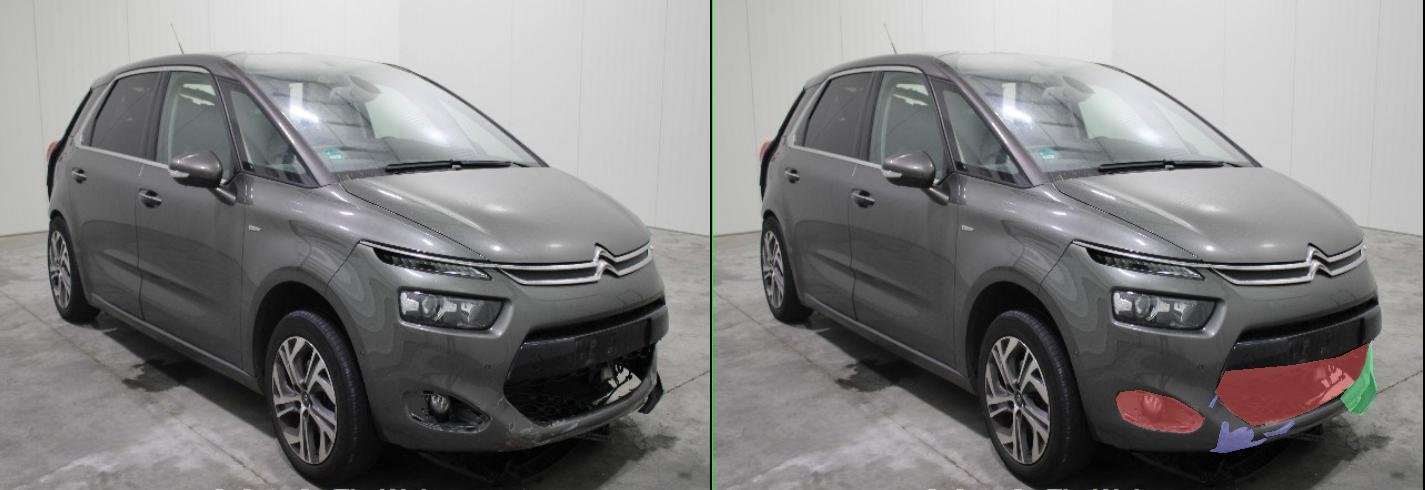Broken part: (1255, 341, 1329, 414)
Missing part: (1005, 343, 1311, 425), (807, 390, 981, 432)
Scratch: (995, 421, 1107, 452), (1101, 420, 1163, 436), (993, 395, 1009, 407)
